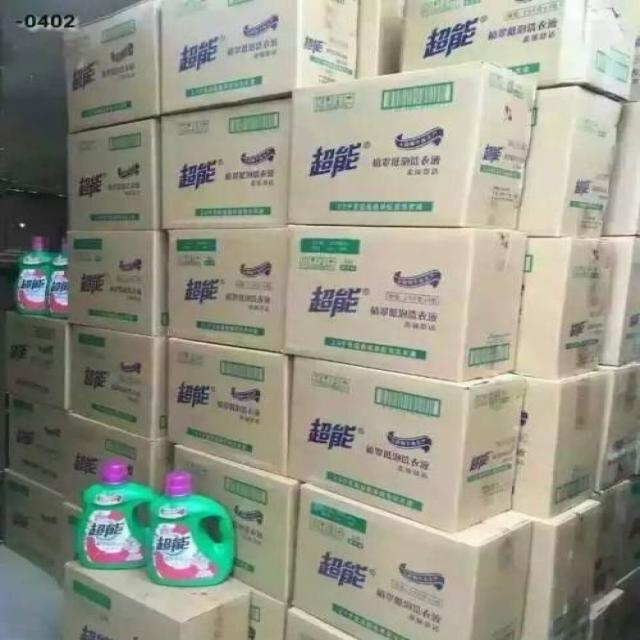box: (285, 356, 524, 535), (287, 61, 539, 229), (283, 224, 529, 382), (294, 482, 534, 640), (401, 1, 637, 104), (161, 0, 358, 115), (173, 444, 301, 604), (165, 336, 296, 477), (161, 97, 292, 230), (517, 86, 626, 236), (60, 559, 251, 640), (168, 226, 288, 353), (512, 236, 617, 380), (511, 372, 608, 519), (61, 0, 161, 133), (512, 499, 602, 640), (70, 324, 169, 437), (61, 412, 175, 508), (68, 115, 163, 230), (67, 229, 168, 335), (4, 466, 67, 579), (3, 308, 70, 410), (6, 397, 67, 493), (598, 361, 640, 494), (600, 236, 640, 367), (603, 102, 640, 235), (591, 480, 628, 607), (357, 0, 407, 79), (232, 576, 289, 640), (52, 501, 83, 588), (284, 605, 358, 639), (618, 473, 640, 582), (590, 587, 626, 640), (630, 37, 640, 102)
